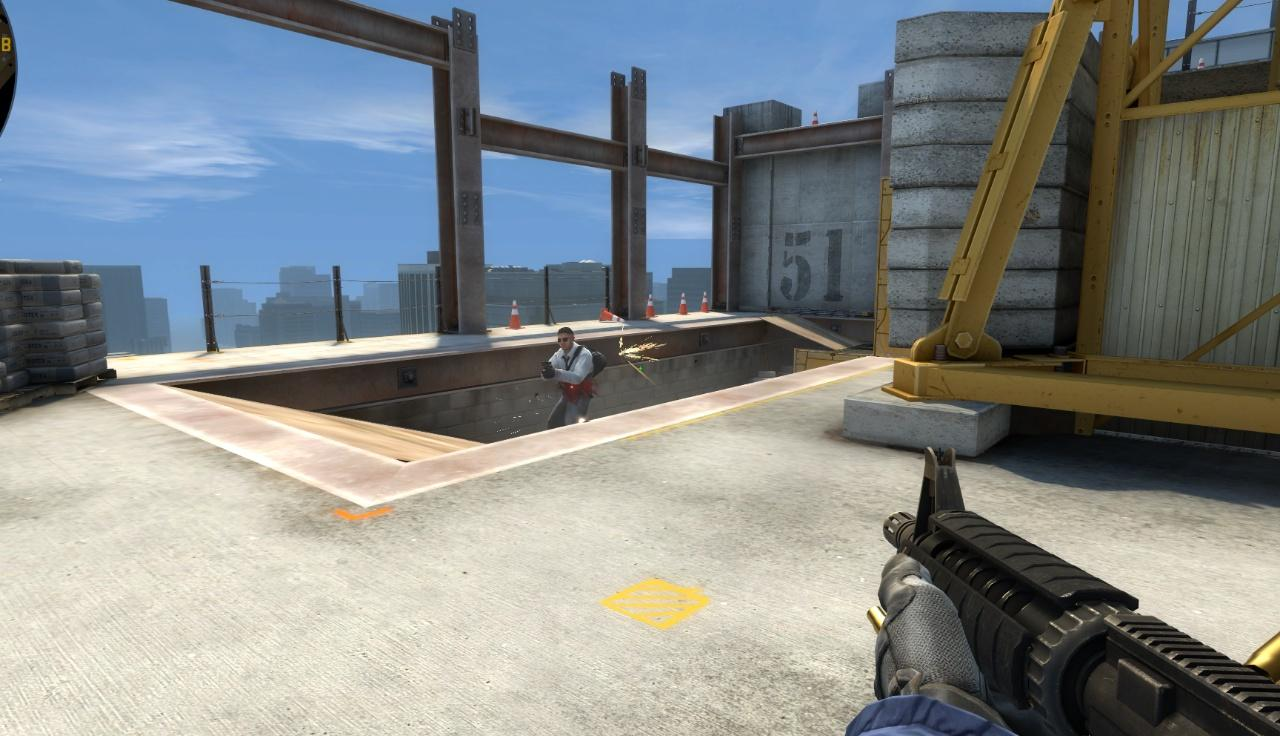rifle: (856, 446, 1278, 729)
tt: (541, 327, 601, 428)
tthead: (557, 328, 574, 350)
